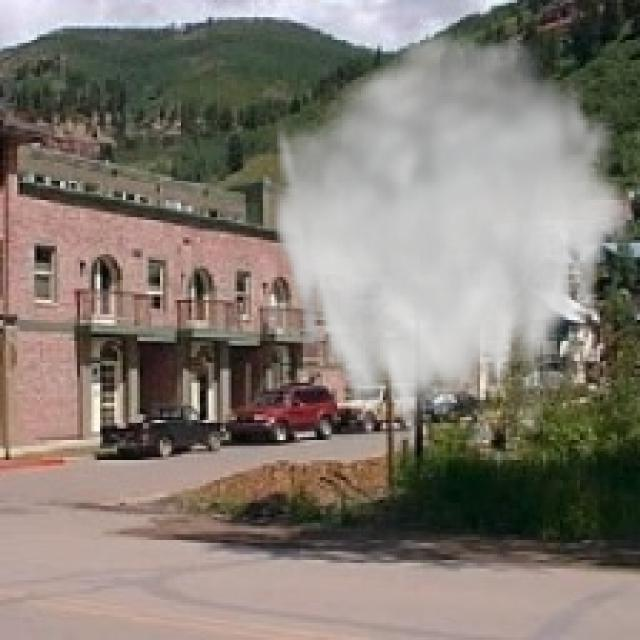smoke: (269, 23, 637, 448)
